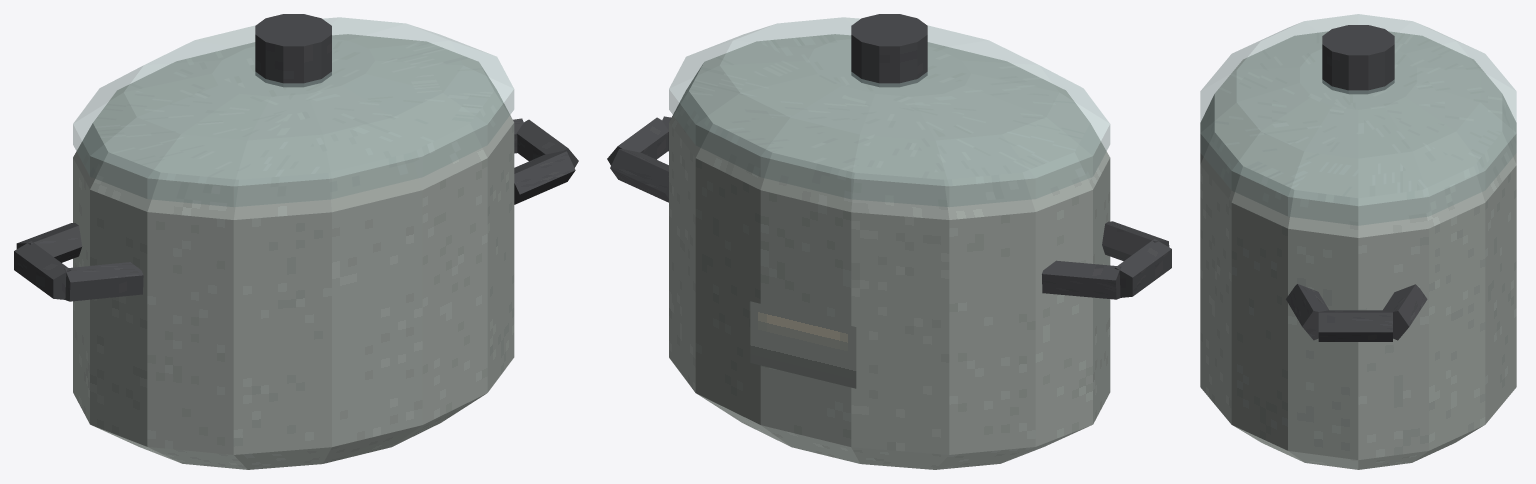
File: slow_cooker.glb
3 views of the same model, side by side, from view 1: azimuth 30°, elevation 25°; view 2: azimuth 150°, elevation 25°; view 3: azimuth 270°, elevation 25° (orthographic). The views are drawn at different scales.
Parts seen in each view (by area): view 1: block_cooker body, block_domed cooking lid, block_lid knob or valve, block_side handle 2 (×2), block_side handle 1 (×2), block_side handle 0; view 2: block_cooker body, block_domed cooking lid, block_temperature scale, block_lid knob or valve, block_side handle 0 (×2), block_side handle 1 (×2), block_side handle 2; view 3: block_cooker body, block_domed cooking lid, block_lid knob or valve, block_side handle 1, block_side handle 0, block_side handle 2.
Part boxes in pixels (bbox=[...]): block_cooker body: bbox=[73, 34, 514, 469]; block_domed cooking lid: bbox=[73, 17, 514, 206]; block_lid knob or valve: bbox=[255, 14, 331, 87]; block_side handle 2 (×2): bbox=[64, 151, 575, 301]; block_side handle 1 (×2): bbox=[14, 119, 578, 299]; block_side handle 0: bbox=[16, 223, 82, 262]; block_cooker body: bbox=[669, 34, 1110, 469]; block_domed cooking lid: bbox=[669, 17, 1110, 207]; block_temperature scale: bbox=[750, 301, 856, 388]; block_lid knob or valve: bbox=[851, 14, 927, 87]; block_side handle 0 (×2): bbox=[610, 149, 1120, 299]; block_side handle 1 (×2): bbox=[607, 117, 1171, 297]; block_side handle 2: bbox=[1102, 221, 1169, 261]; block_cooker body: bbox=[1200, 31, 1516, 469]; block_domed cooking lid: bbox=[1200, 14, 1516, 225]; block_lid knob or valve: bbox=[1322, 25, 1394, 94]; block_side handle 1: bbox=[1318, 310, 1392, 341]; block_side handle 0: bbox=[1383, 284, 1427, 340]; block_side handle 2: bbox=[1286, 284, 1328, 340].
Size of the model in its own units: 0.2885 by 0.1987 by 0.1615.
2 materials, 2 textured.
